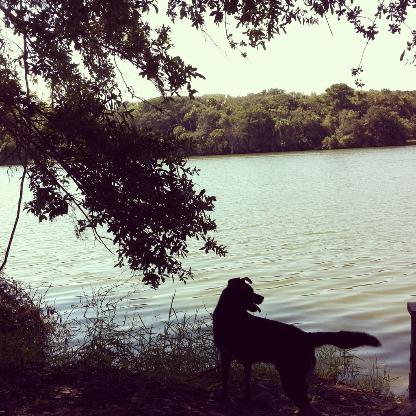Dog: (212, 276, 382, 414)
